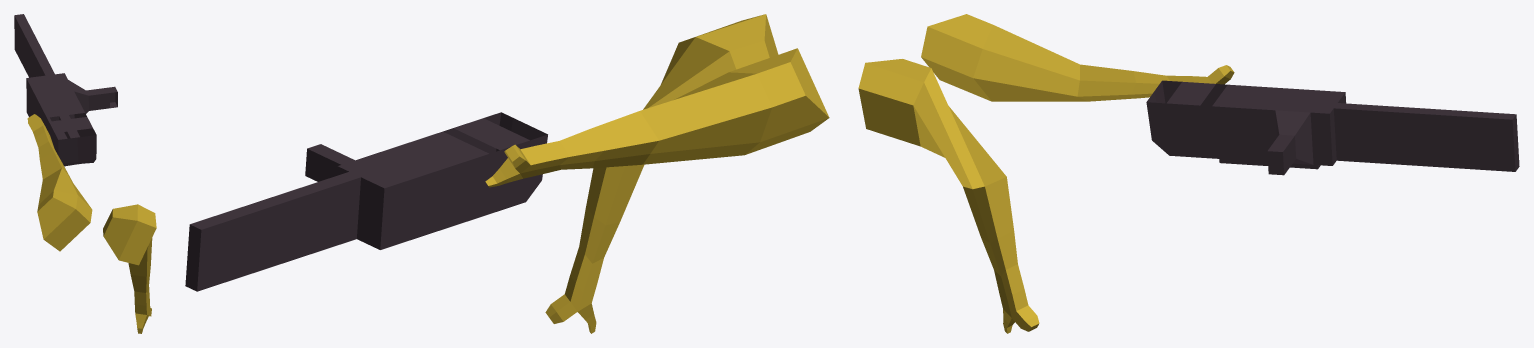
Rendered from arme_000151.obj.
The picture shows the model from 3 angles, left to right: view 1: azimuth 30°, elevation 25°; view 2: azimuth 150°, elevation 25°; view 3: azimuth 270°, elevation 25°; orthographic projection. The views are drawn at different scales.
Parts seen in each view (by area): view 1: Cube.048_Cube.024, Cube.046_Cube.010; view 2: Cube.048_Cube.024, Cube.046_Cube.010; view 3: Cube.048_Cube.024, Cube.046_Cube.010.
Part boxes in pixels (x1=…): Cube.048_Cube.024: x1=27, y1=114, x2=156, y2=333; Cube.046_Cube.010: x1=14, y1=14, x2=117, y2=166; Cube.048_Cube.024: x1=485, y1=14, x2=829, y2=333; Cube.046_Cube.010: x1=185, y1=112, x2=547, y2=291; Cube.048_Cube.024: x1=858, y1=14, x2=1234, y2=333; Cube.046_Cube.010: x1=1146, y1=80, x2=1519, y2=175.
Size of the model in its own units: 1218 by 1092 by 2567.
